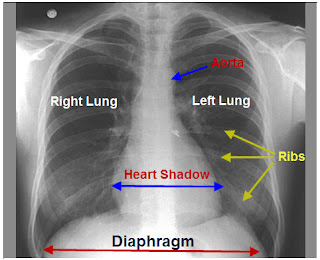telestration: (223, 128, 277, 154), (111, 232, 193, 249), (242, 160, 274, 202), (50, 93, 119, 110), (111, 182, 224, 191), (189, 93, 251, 109), (124, 169, 211, 180), (219, 149, 272, 161), (170, 64, 206, 81), (211, 57, 246, 69), (277, 149, 306, 163)
